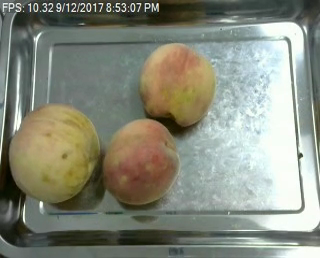Peach: (7, 101, 100, 204), (102, 118, 179, 206), (139, 40, 216, 127)
